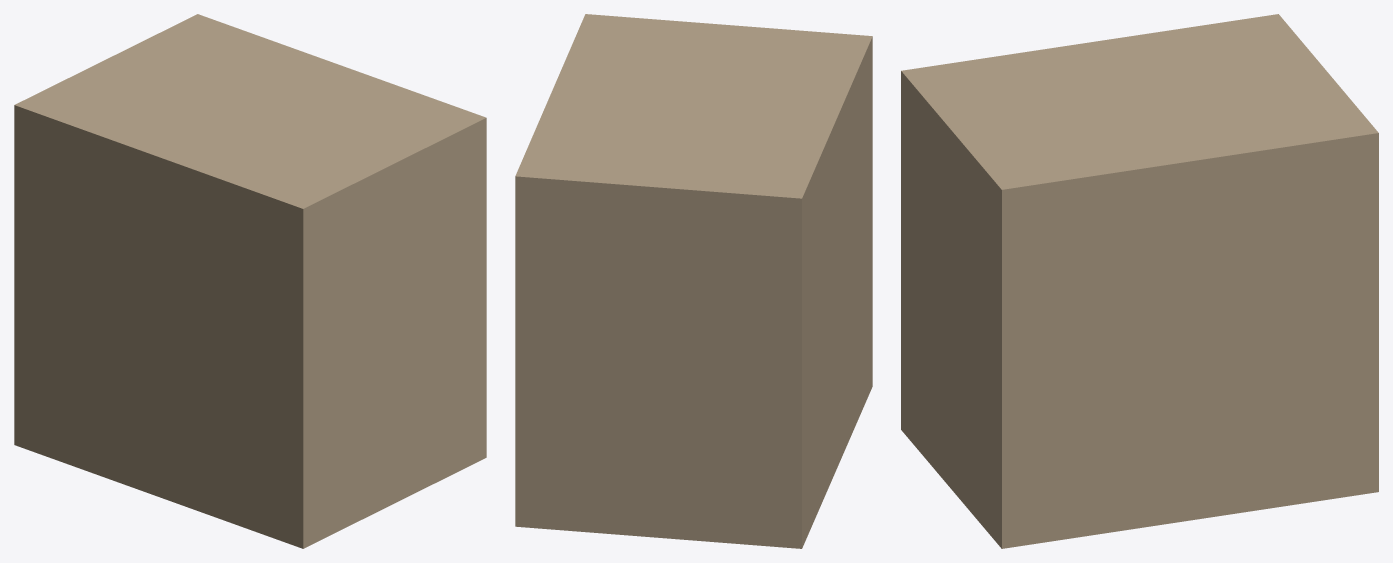
Rendered from bld_107639246.dae.
3 views of the same model, side by side, from view 1: azimuth 30°, elevation 25°; view 2: azimuth 150°, elevation 25°; view 3: azimuth 270°, elevation 25° (orthographic). The views are drawn at different scales.
Parts seen in each view (by area): view 1: bld_107639246; view 2: bld_107639246; view 3: bld_107639246.
Boxes of the visible parts, x1,y1,x2,y2 form: bld_107639246: [14, 14, 486, 548]; bld_107639246: [515, 14, 872, 548]; bld_107639246: [901, 14, 1378, 548].
Bounding box in the file's own units: 8.4 × 9.65 × 8.
